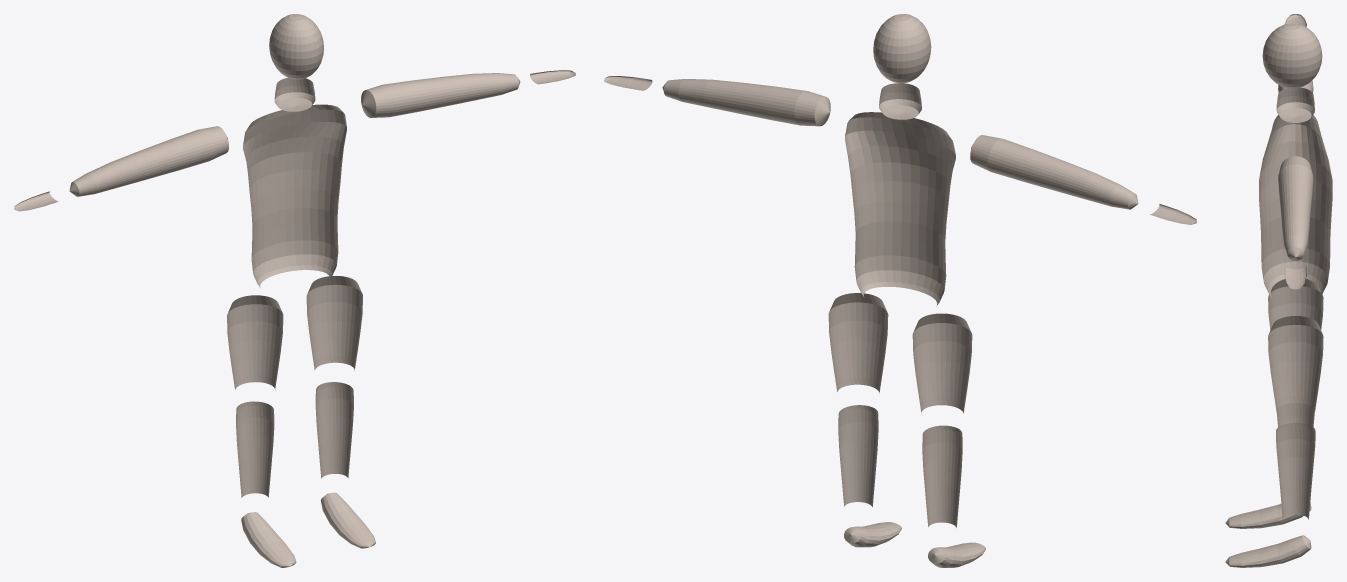
File: body_mesh.glb
3 views of the same model, side by side, from view 1: azimuth 30°, elevation 25°; view 2: azimuth 150°, elevation 25°; view 3: azimuth 270°, elevation 25° (orthographic). The views are drawn at different scales.
Visible parts, largest first — view 1: world; view 2: world; view 3: world.
Boxes of the visible parts, bbox=[...] form: world: bbox=[14, 14, 575, 567]; world: bbox=[604, 14, 1196, 567]; world: bbox=[1225, 14, 1332, 567].
Size of the model in its own units: 2.07 by 1.83 by 0.3427.
